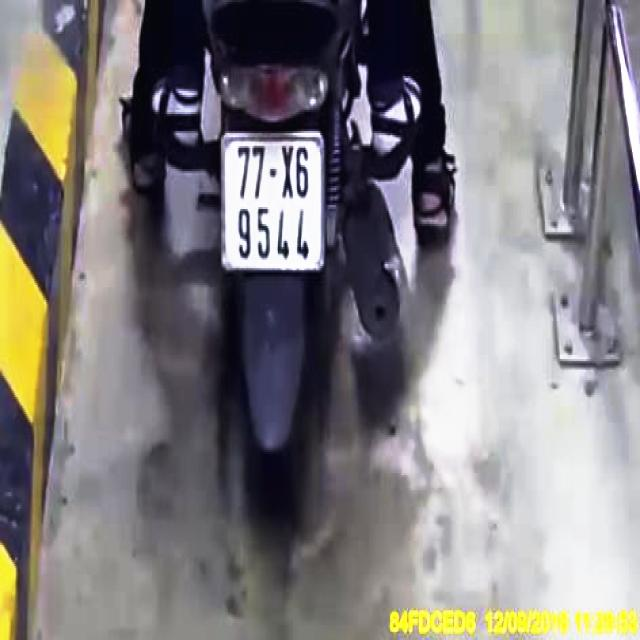license_plate: (225, 138, 324, 270)
